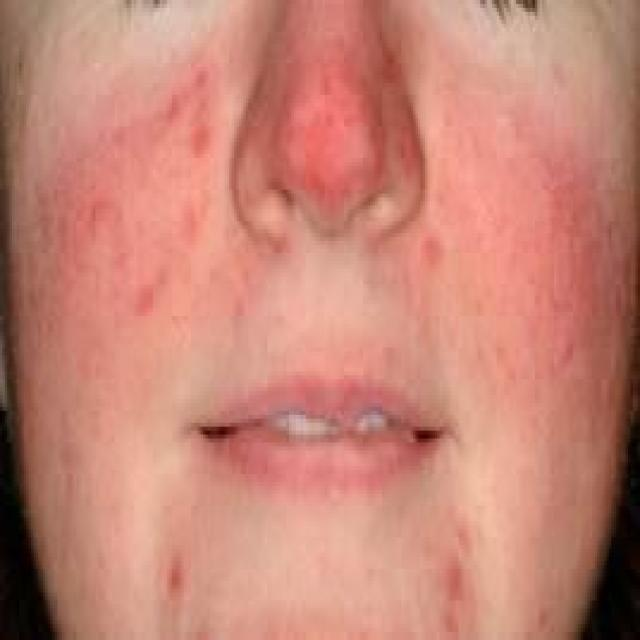Rosacea: (415, 64, 618, 388), (29, 54, 221, 351), (261, 10, 419, 213)
